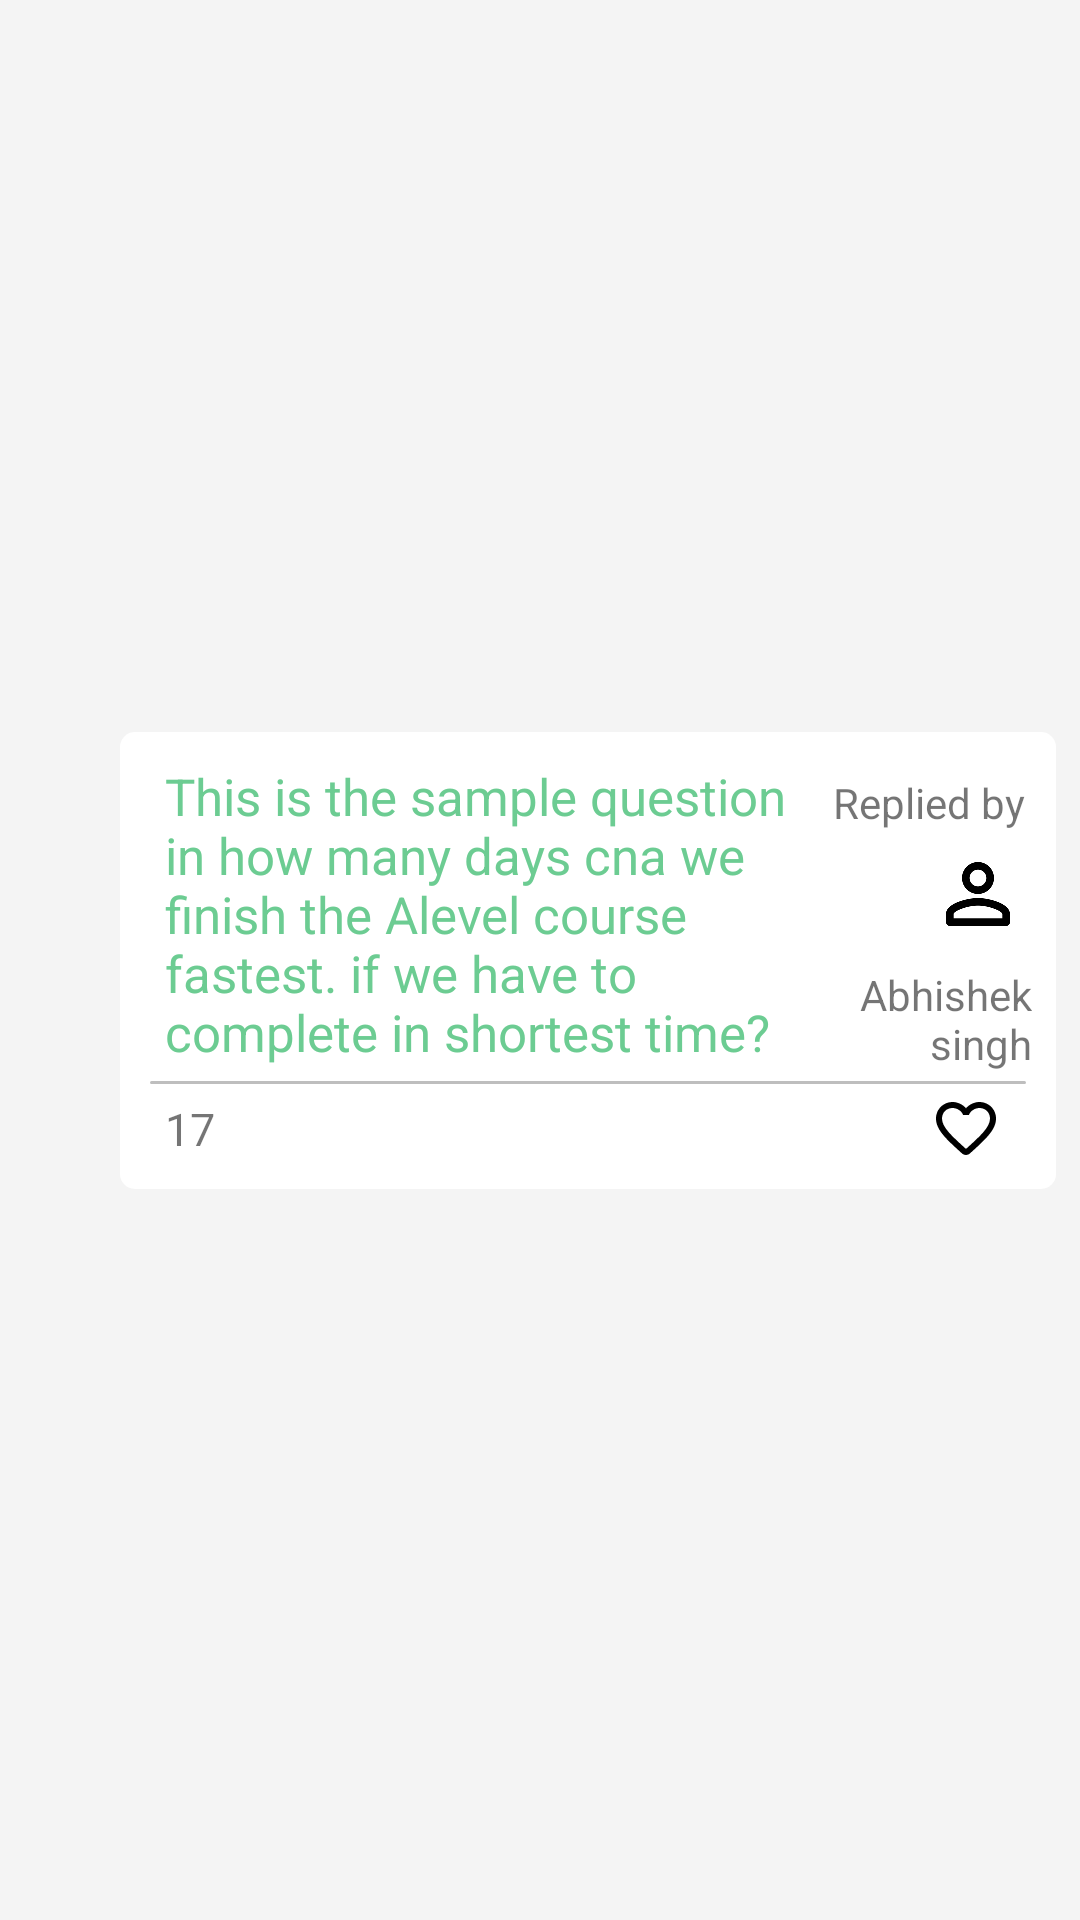

Icons on this 1080w x 1920h Android screen, each with its box as [left=x1, top=y1, right=x2, bottom=y2]:
favorite border: [left=936, top=1102, right=996, bottom=1155]
person: [left=946, top=862, right=1010, bottom=926]
